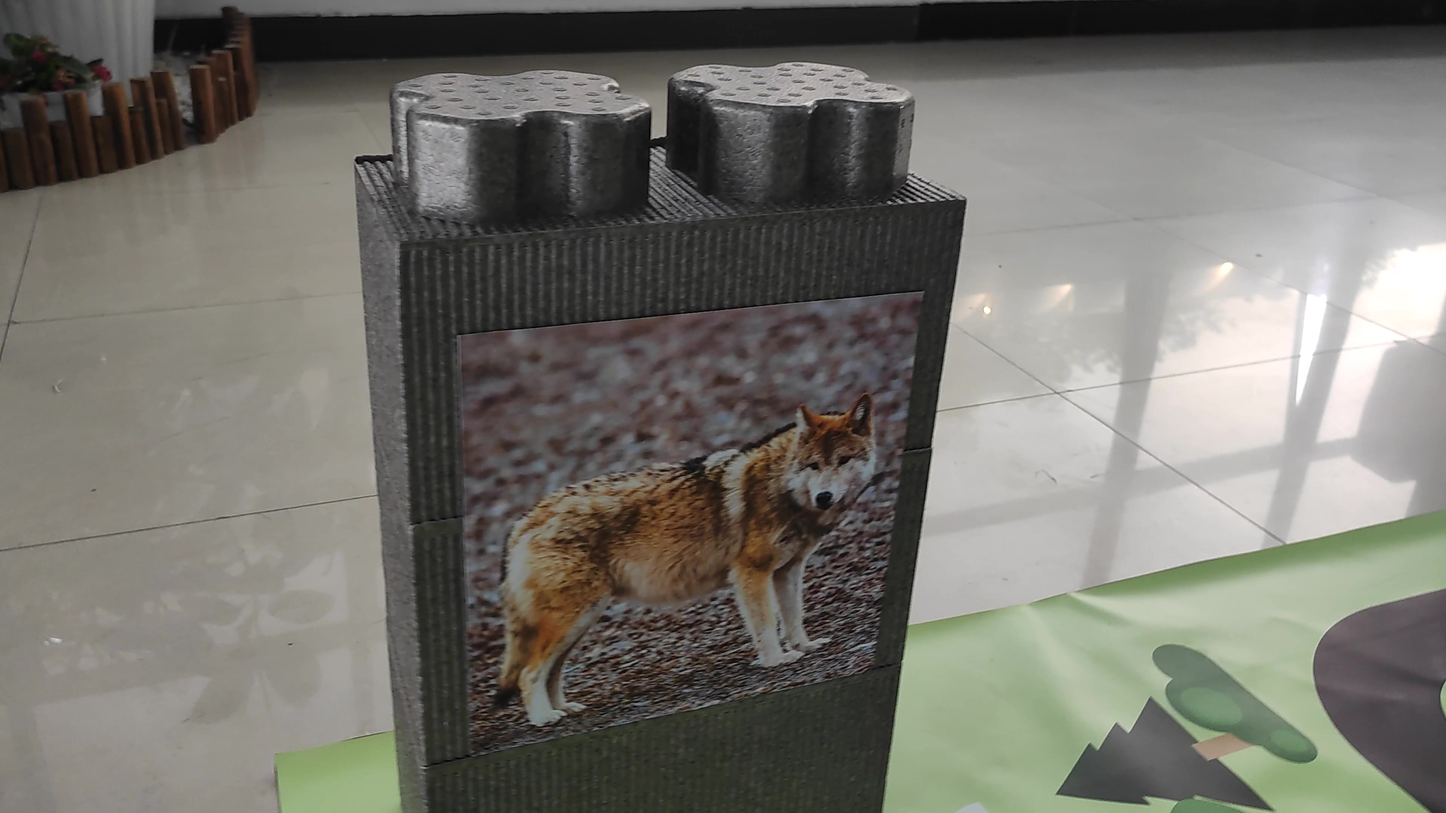wolf: (444, 350, 889, 723)
